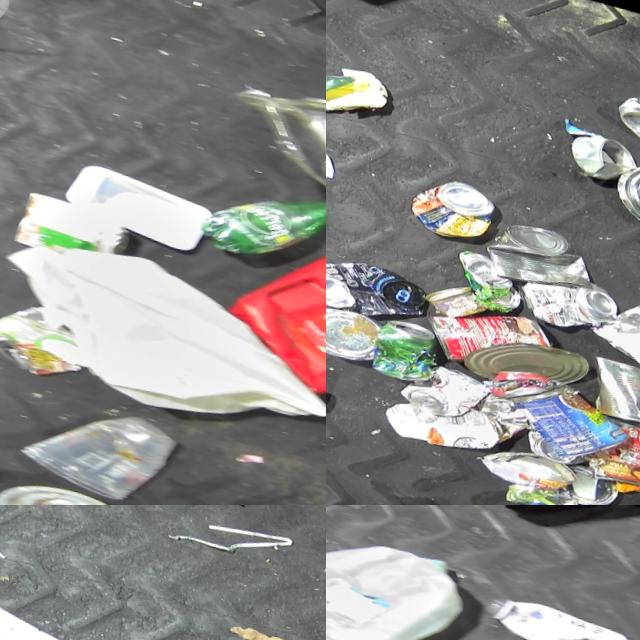can: (502, 358, 637, 461), (422, 283, 555, 378), (8, 178, 134, 273), (481, 205, 600, 292), (0, 290, 102, 387), (462, 316, 590, 393), (326, 240, 427, 325), (514, 254, 620, 330), (406, 161, 497, 239), (396, 346, 492, 418), (478, 429, 580, 488), (368, 305, 442, 379), (451, 238, 526, 307), (587, 399, 640, 484), (583, 342, 640, 420), (568, 117, 640, 177), (326, 289, 380, 361), (423, 267, 488, 318), (562, 450, 622, 502), (607, 137, 640, 231), (524, 419, 588, 458), (611, 72, 640, 145)
milk_jug: (0, 212, 326, 442), (326, 517, 471, 640)
non_white_jug: (212, 213, 326, 392)
plastic_bottle: (190, 148, 326, 272), (478, 581, 640, 640)
